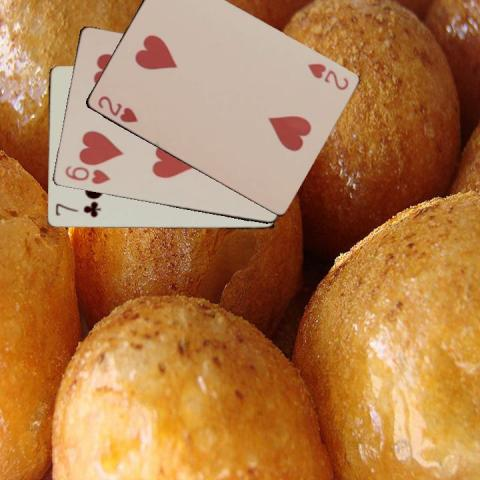2h: (94, 92, 139, 125), (304, 60, 350, 92)
6h: (61, 163, 112, 186)
7c: (52, 201, 102, 219)
